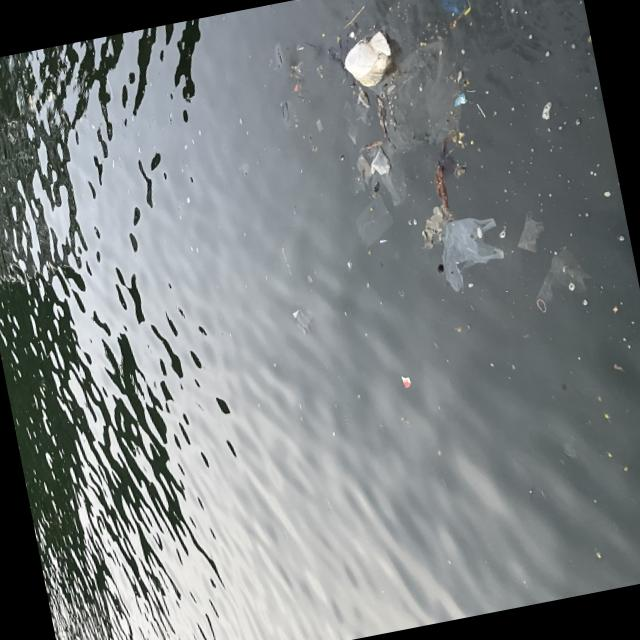foam: (341, 28, 398, 90)
plastic bag: (438, 213, 502, 293)
